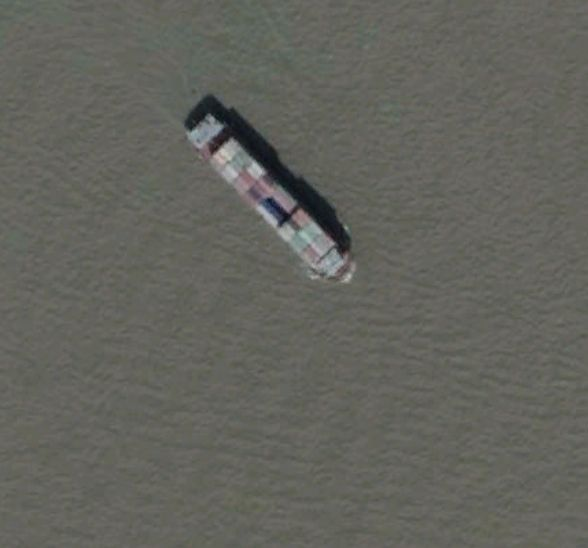boat: (182, 105, 357, 286)
